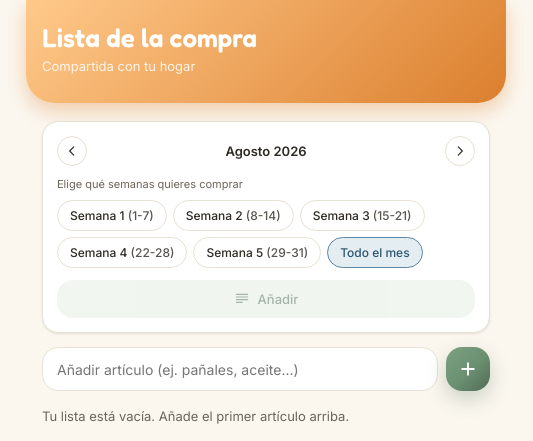
it: ShoppingList — selector de semanas del mes › "Todo el mes" selecciona todas las semanas a la vez
Click the button "Todo el mes" at (375, 252), box [327, 237, 423, 268]
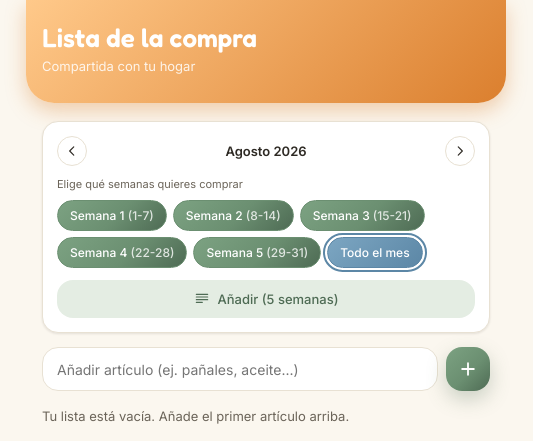
Expected: the button "Añadir (5 semanas)" is shown, [57, 280, 475, 318]
